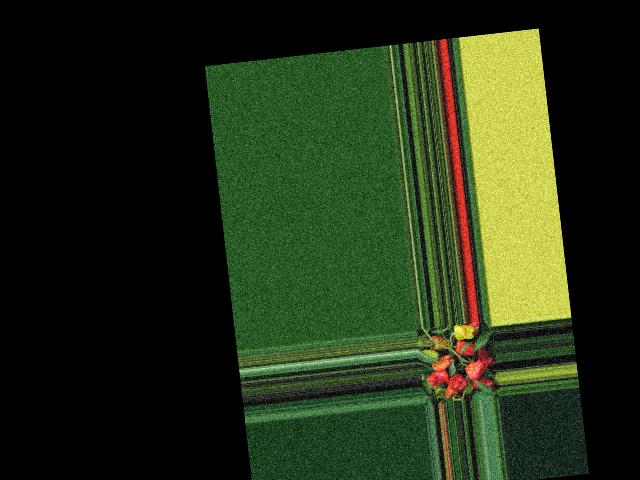bell_pepper: (444, 385, 455, 400)
